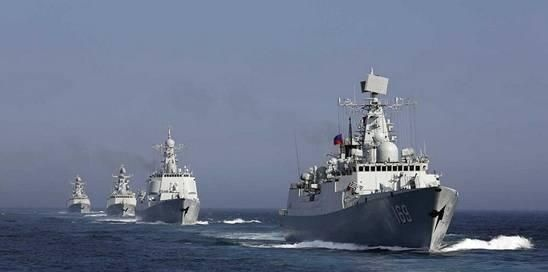warship: (281, 70, 462, 253), (142, 129, 202, 228), (102, 164, 140, 221), (64, 173, 93, 219)
